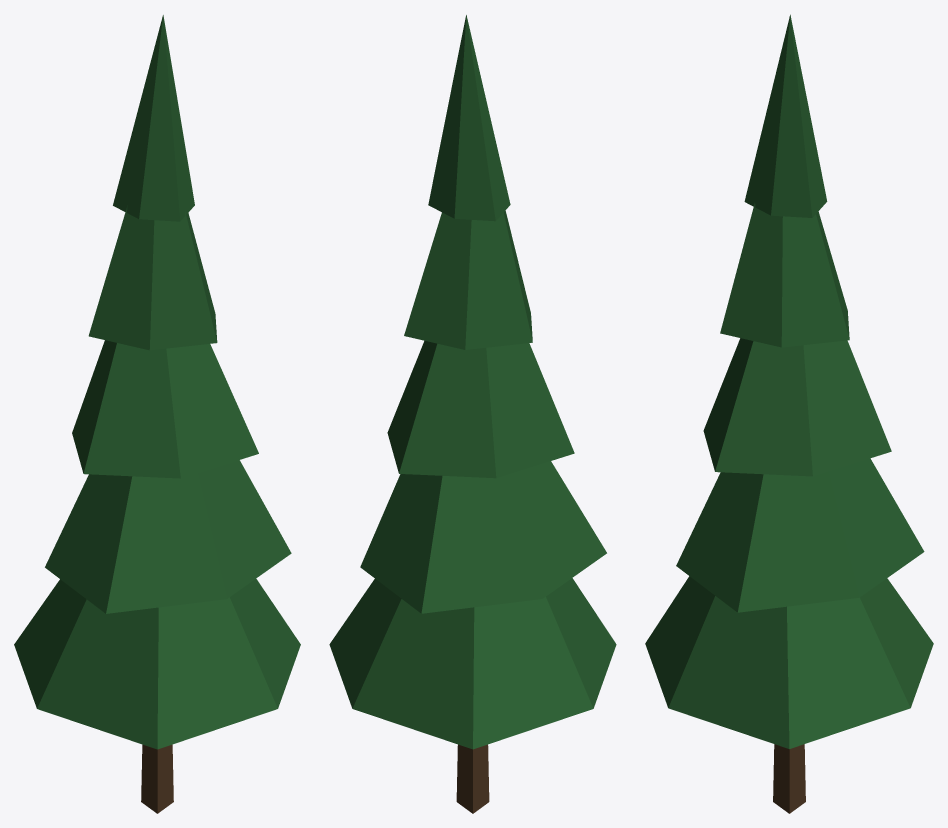
Rendered from spruce-a.obj.
The picture shows the model from 3 angles, left to right: view 1: azimuth 30°, elevation 25°; view 2: azimuth 150°, elevation 25°; view 3: azimuth 270°, elevation 25°; orthographic projection.
Parts seen in each view (by area): view 1: a_branch_whorl_1, a_branch_whorl_2, a_branch_whorl_3, a_branch_whorl_4, a_branch_whorl_5, Trunk_a; view 2: a_branch_whorl_1, a_branch_whorl_2, a_branch_whorl_3, a_branch_whorl_4, a_branch_whorl_5, Trunk_a; view 3: a_branch_whorl_1, a_branch_whorl_2, a_branch_whorl_3, a_branch_whorl_4, a_branch_whorl_5, Trunk_a.
Part boxes in pixels (x1,y1,x2,y2): a_branch_whorl_1: (14, 579, 300, 749); a_branch_whorl_2: (45, 460, 291, 613); a_branch_whorl_3: (72, 340, 258, 478); a_branch_whorl_4: (88, 205, 217, 350); a_branch_whorl_5: (113, 15, 194, 221); Trunk_a: (141, 744, 173, 813); a_branch_whorl_1: (329, 578, 616, 749); a_branch_whorl_2: (360, 461, 606, 613); a_branch_whorl_3: (387, 340, 574, 478); a_branch_whorl_4: (404, 206, 532, 349); a_branch_whorl_5: (428, 15, 510, 221); Trunk_a: (456, 744, 489, 813); a_branch_whorl_1: (645, 576, 933, 748); a_branch_whorl_2: (676, 458, 924, 612); a_branch_whorl_3: (703, 338, 891, 476); a_branch_whorl_4: (720, 203, 849, 347); a_branch_whorl_5: (744, 14, 827, 217); Trunk_a: (773, 744, 805, 813).
Size of the model in its own units: 1.05 by 3 by 0.9873.
